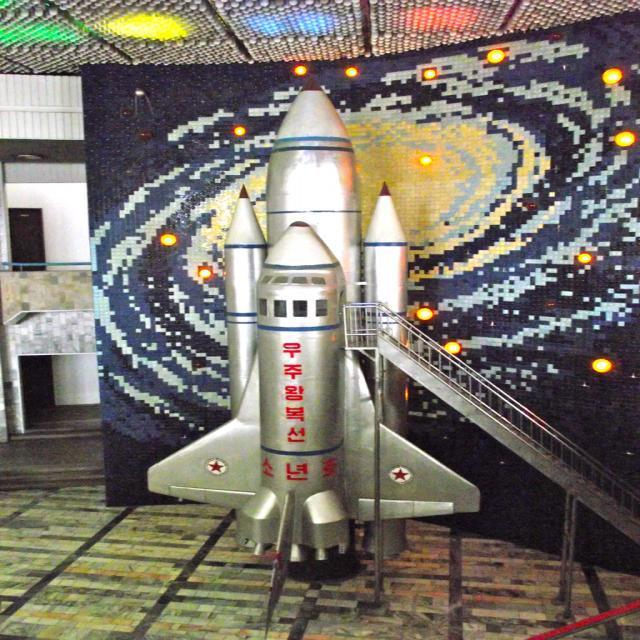Missile: (250, 224, 349, 557), (215, 175, 265, 409), (363, 172, 411, 322)
